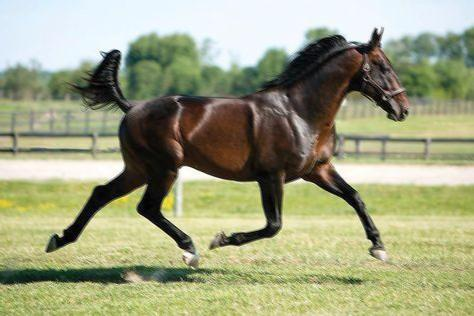horse: (45, 25, 409, 269)
